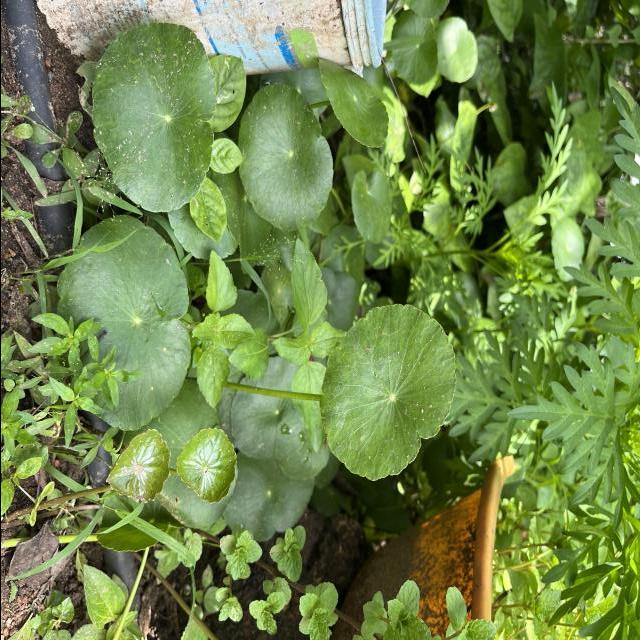Bacopa monnieri: (316, 300, 460, 485), (89, 21, 218, 215), (234, 80, 334, 236), (314, 56, 390, 150), (102, 426, 173, 504), (173, 426, 240, 508)
